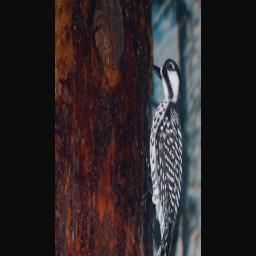Woodpecker: (141, 51, 185, 255)
